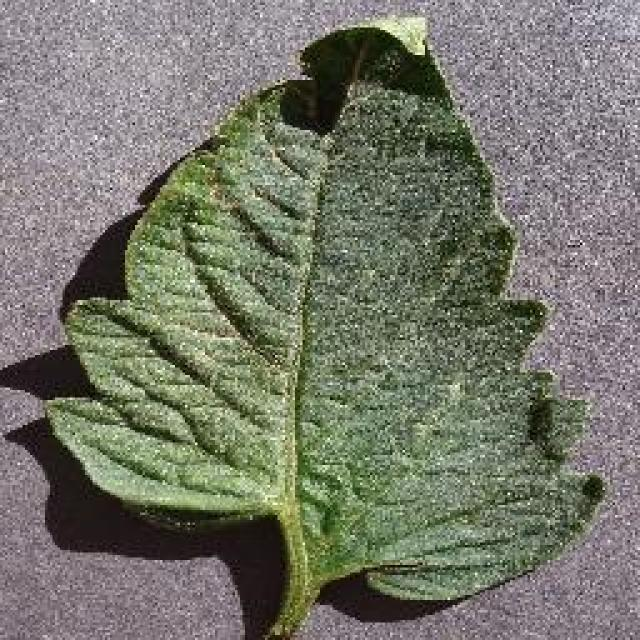Tomato___healthy: (46, 11, 611, 638)
